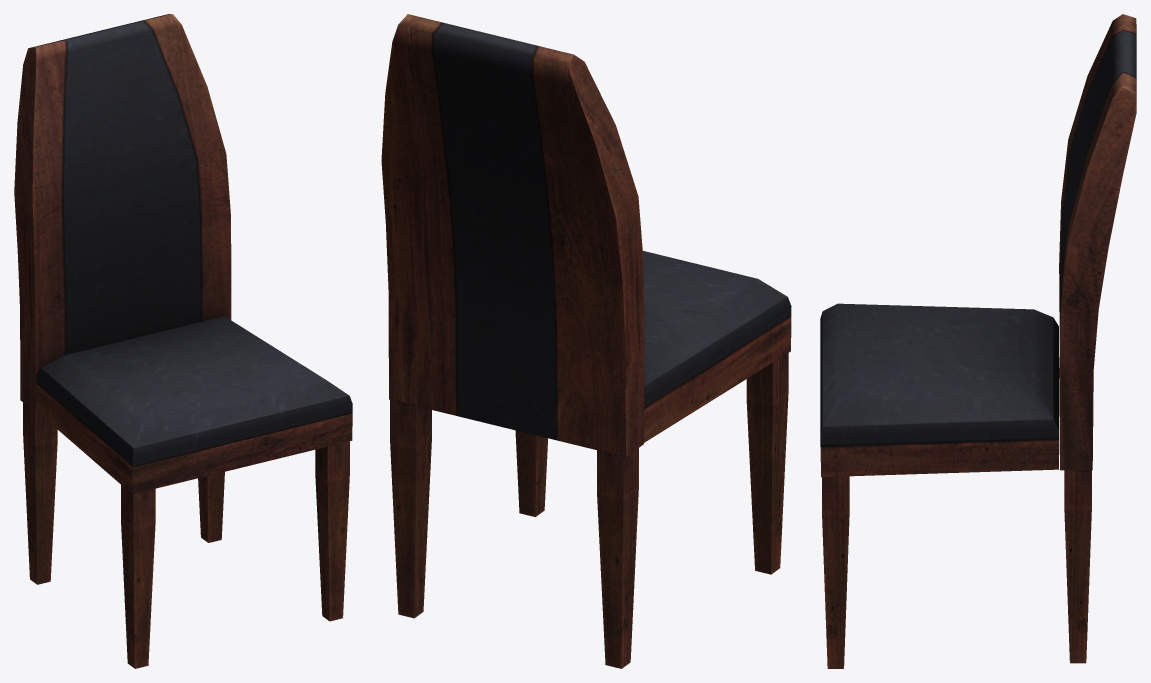
File: Sun_0084_Dining_chair.fbx
3 views of the same model, side by side, from view 1: azimuth 30°, elevation 25°; view 2: azimuth 150°, elevation 25°; view 3: azimuth 270°, elevation 25° (orthographic). The views are drawn at different scales.
Parts seen in each view (by area): view 1: Sun_0084_Dining_chair; view 2: Sun_0084_Dining_chair; view 3: Sun_0084_Dining_chair.
Boxes of the visible parts, x1,y1,x2,y2 form: Sun_0084_Dining_chair: (14, 14, 352, 668); Sun_0084_Dining_chair: (381, 14, 791, 668); Sun_0084_Dining_chair: (820, 14, 1136, 668).
Size of the model in its own units: 49.55 by 111 by 56.33.
Materials: 1 (1 with a texture image).
